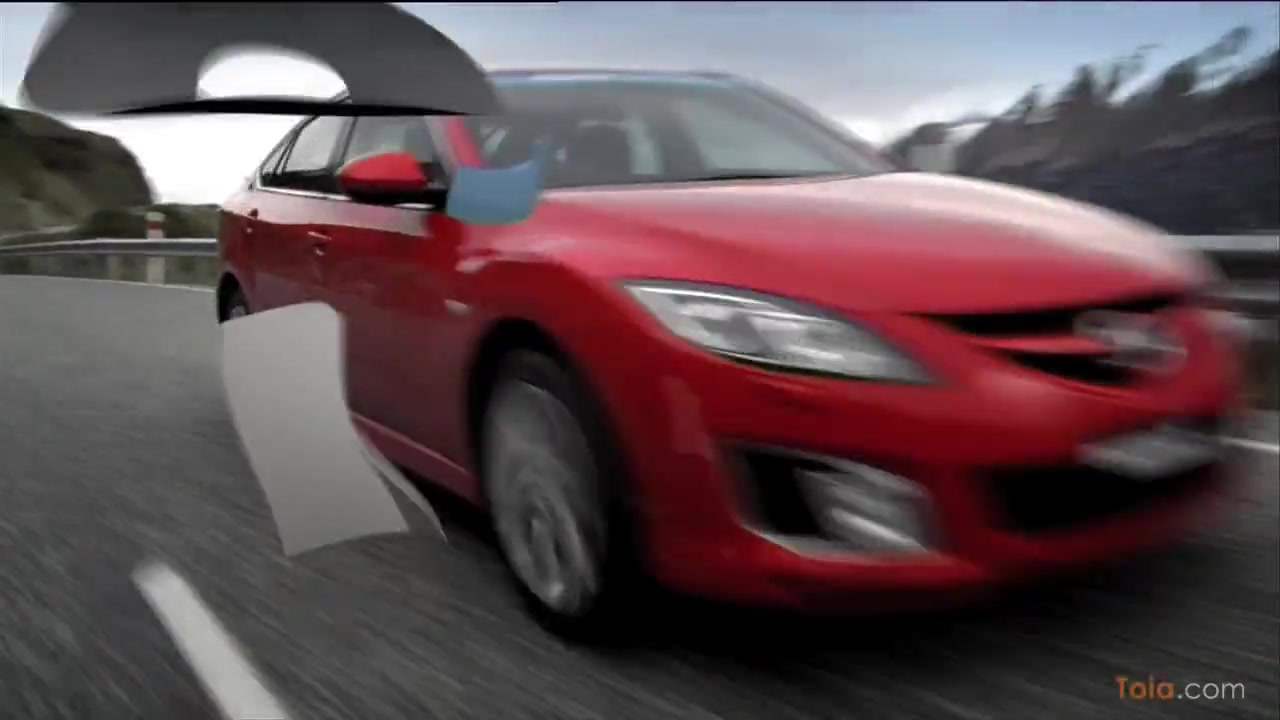car: (212, 69, 1254, 643)
